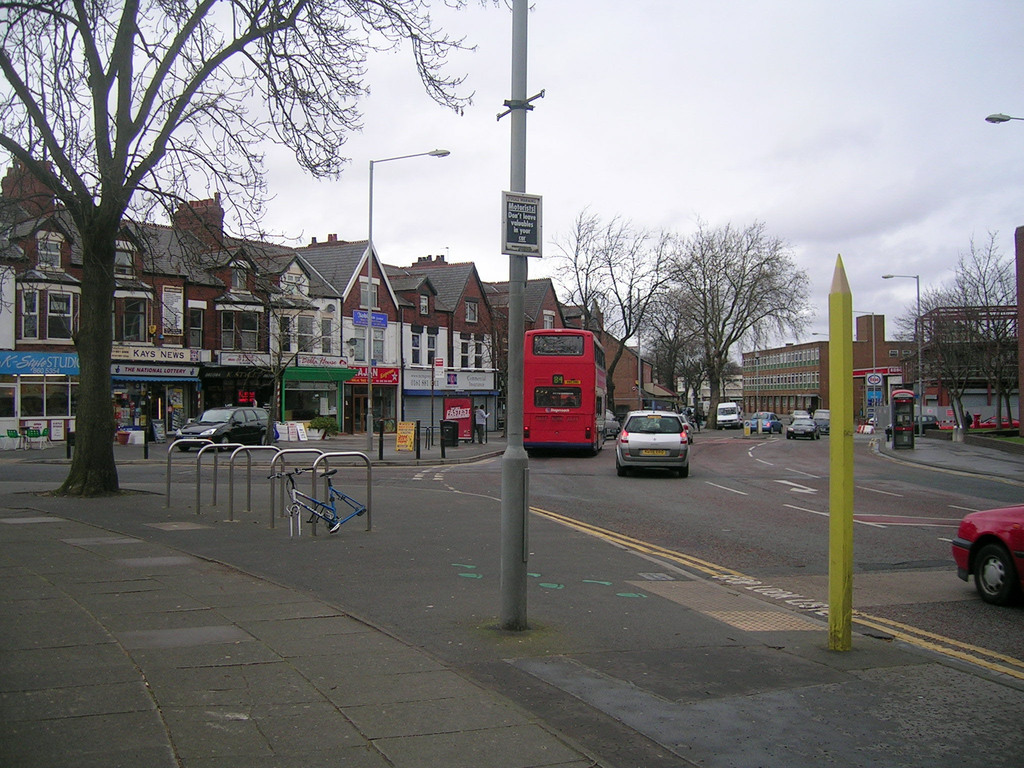Bus: (524, 328, 611, 457)
